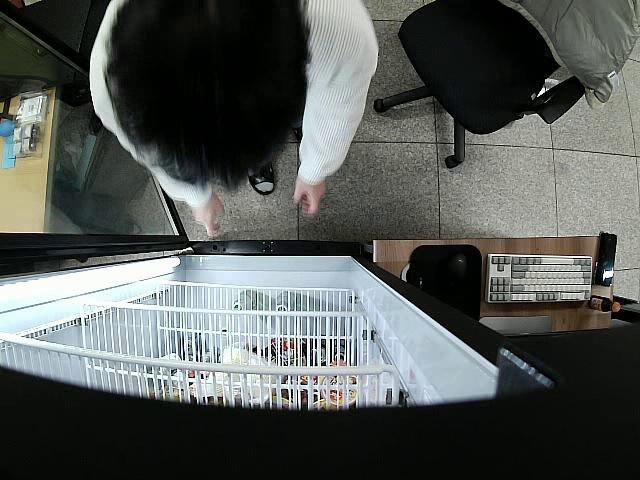00_hand: (191, 196, 225, 235), (293, 179, 325, 219)
